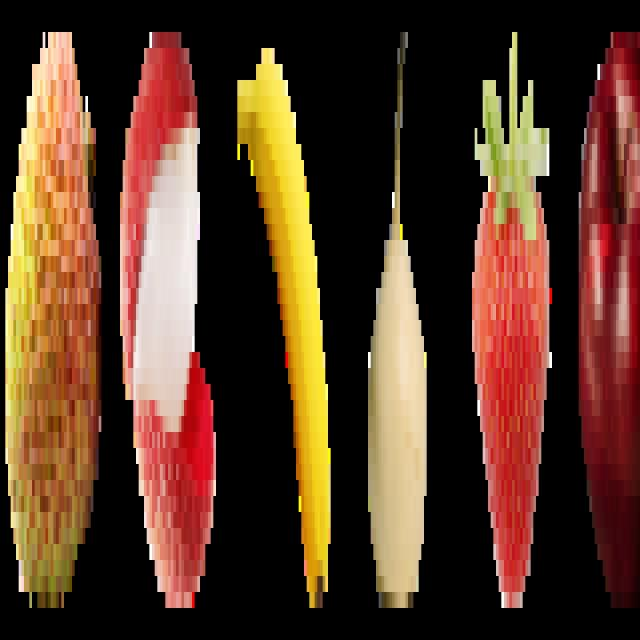apple: (573, 0, 640, 624)
bananas: (233, 22, 331, 618)
lychee: (3, 19, 108, 620), (118, 20, 218, 628)
pear: (355, 9, 437, 620)
strawberry: (468, 9, 551, 624)
